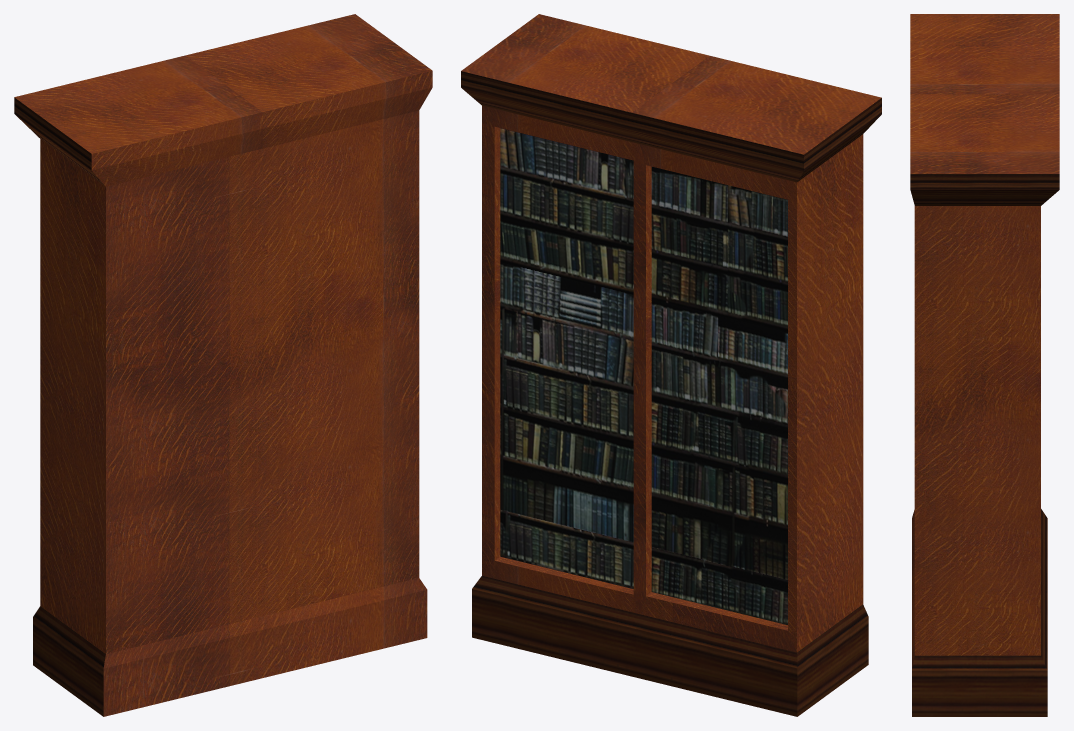
Rendered from Bookcase_shortshort1.fbx.
3 renders of one model, left to right at view 1: azimuth 30°, elevation 25°; view 2: azimuth 150°, elevation 25°; view 3: azimuth 270°, elevation 25°, orthographic. The views are drawn at different scales.
Visible parts, largest first — view 1: Bookcase_Short; view 2: Bookcase_Short; view 3: Bookcase_Short.
Boxes of the visible parts, <box> form: Bookcase_Short: <box>14,14,432,716</box>; Bookcase_Short: <box>461,14,881,716</box>; Bookcase_Short: <box>910,14,1059,716</box>.
Size of the model in its own units: 213 by 338 by 83.72.
